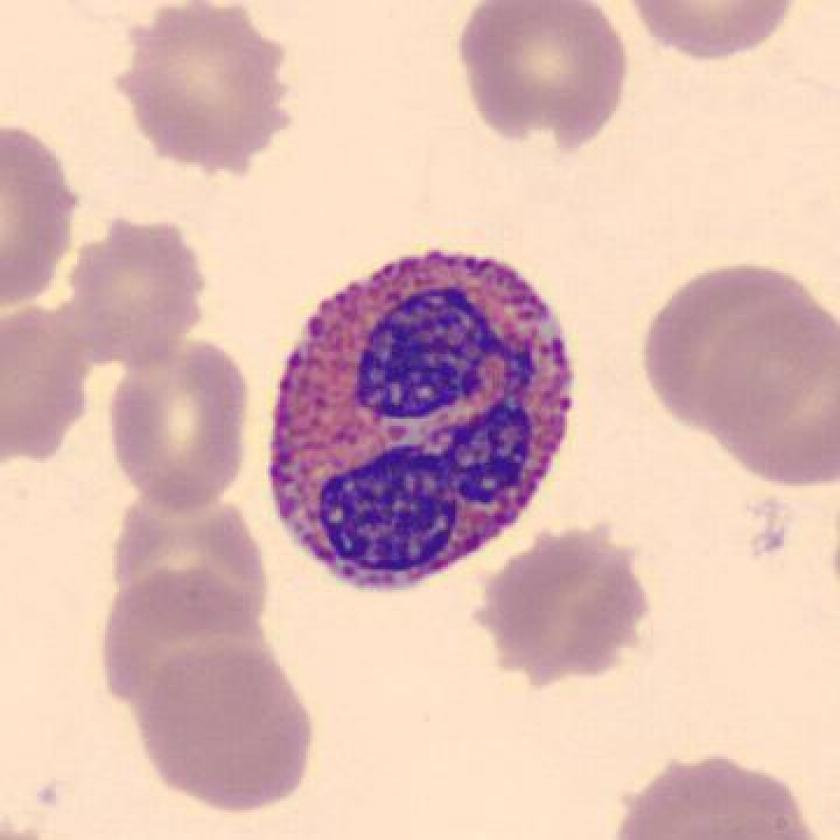eosinophil: (255, 240, 580, 608)
